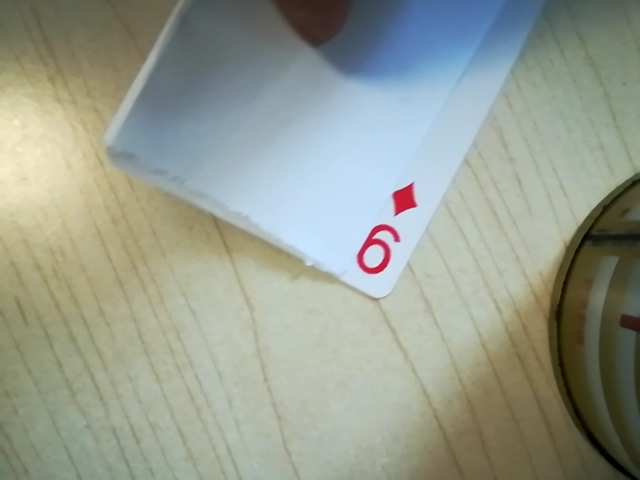fk 9: (344, 179, 423, 282)
